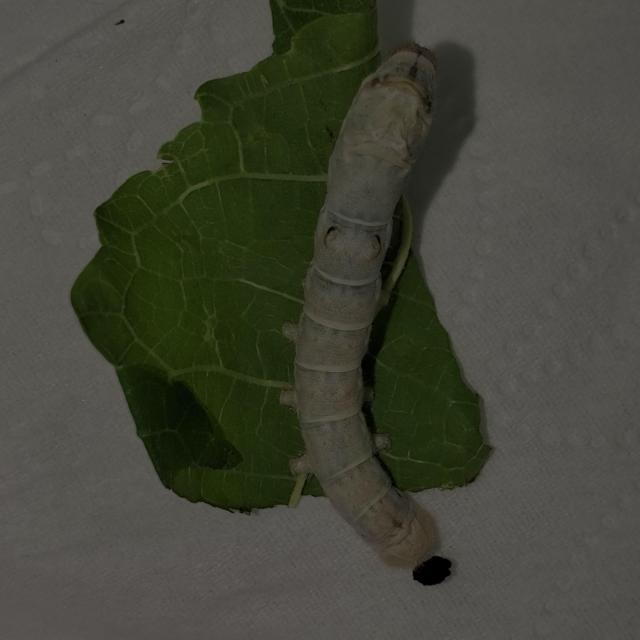Healthy: (258, 27, 477, 586)
